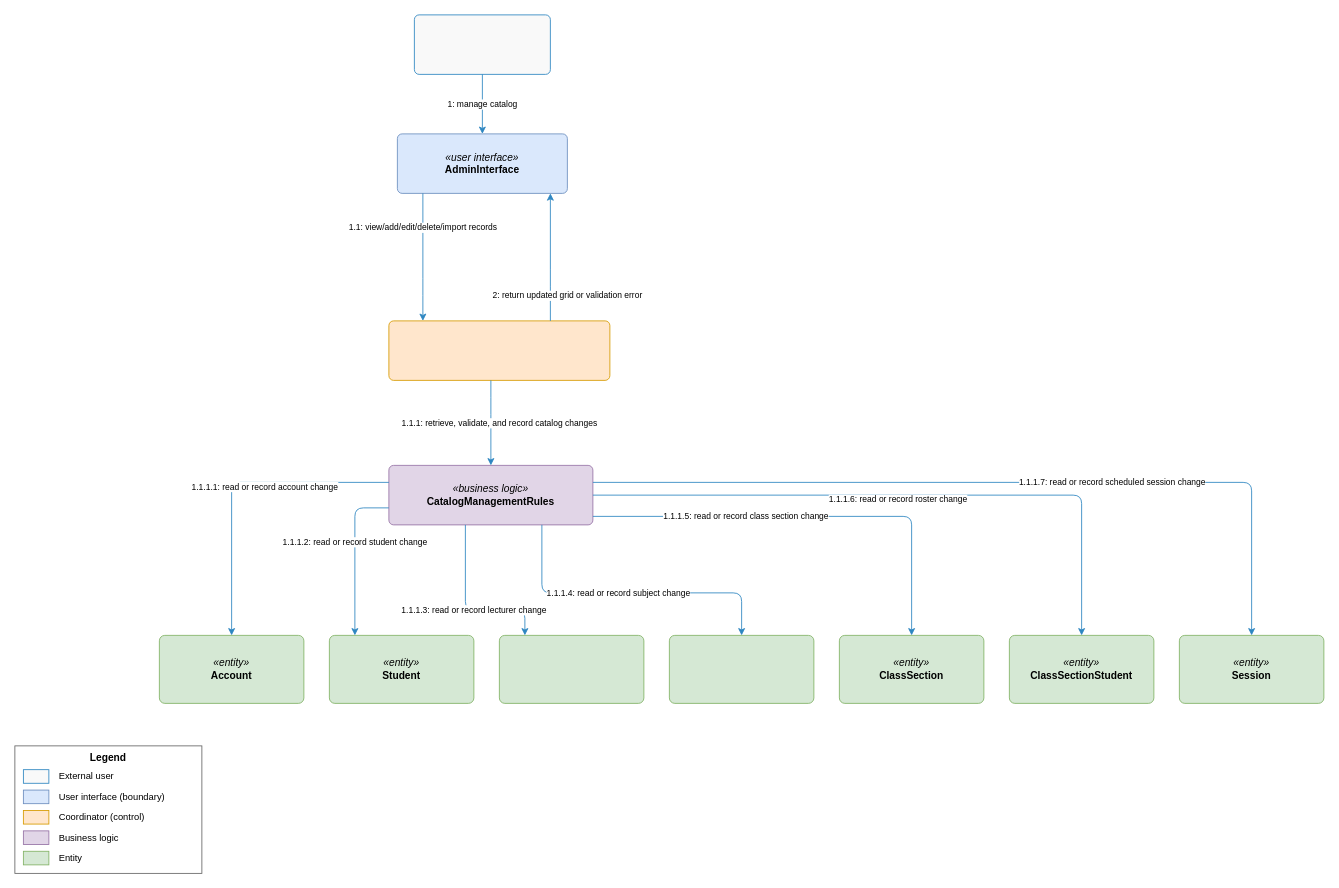
This 1339x888 diagram has some shape labels left out. Each missing label, with the centre of its shape:
"«coordinator» CatalogManagementCoordinator" goes at pixel 499 350.
"«entity» Lecturer" goes at pixel 571 669.
"«entity» Subject" goes at pixel 741 669.
"«external user» Admin" goes at pixel 482 44.
